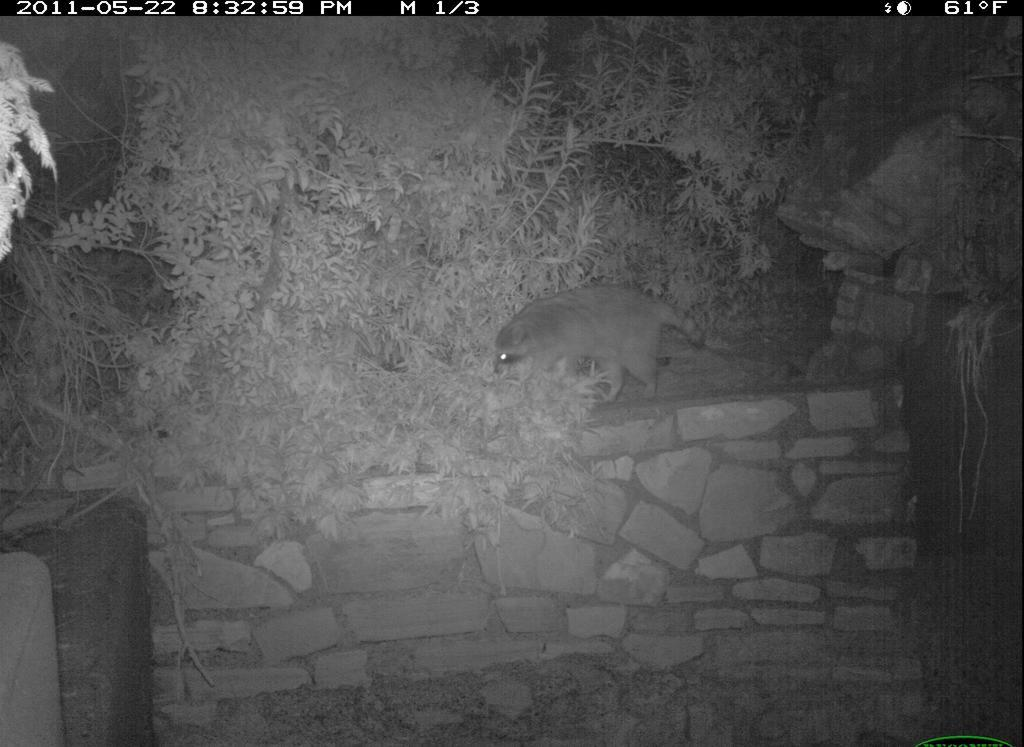raccoon: (500, 283, 710, 408)
